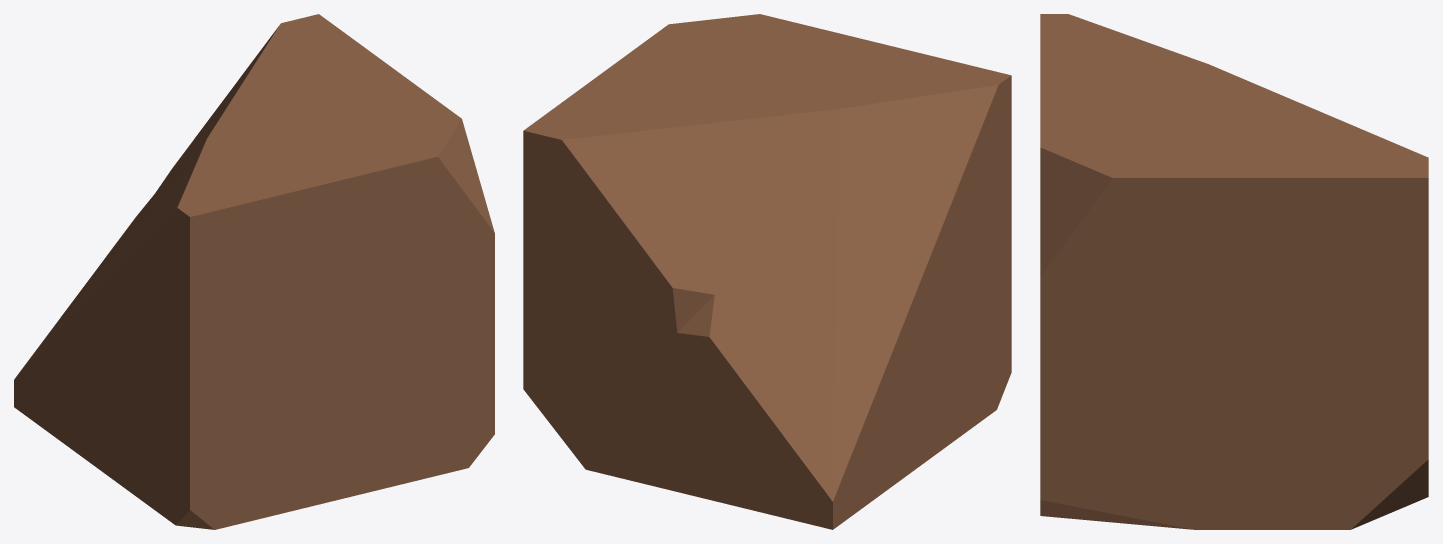
The model's file is Monument_007.FBX.
The picture shows the model from 3 angles, left to right: view 1: azimuth 30°, elevation 25°; view 2: azimuth 150°, elevation 25°; view 3: azimuth 270°, elevation 25°; orthographic projection. The views are drawn at different scales.
Visible parts, largest first — view 1: Monument_007; view 2: Monument_007; view 3: Monument_007.
Part boxes in pixels (x1,y1,x2,y2): Monument_007: (14,14,494,529); Monument_007: (523,14,1011,529); Monument_007: (1040,14,1428,529).
Size of the model in its own units: 19.69 by 19.69 by 19.69.
